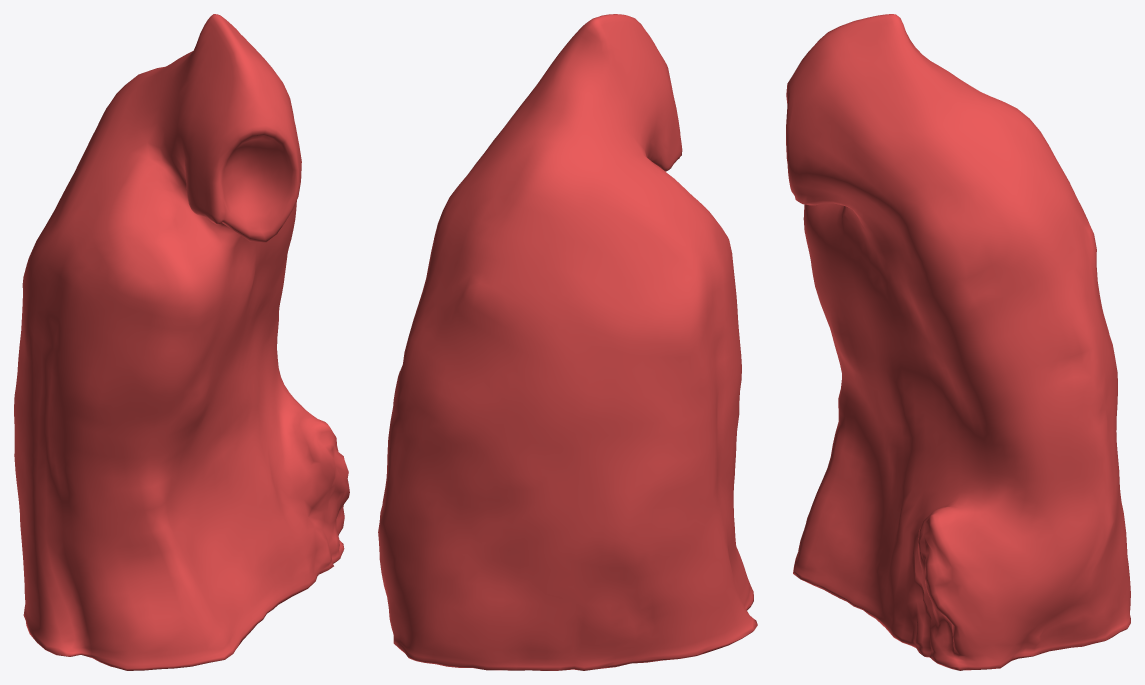
The model's file is S_Monolith.fbx.
The picture shows the model from 3 angles, left to right: view 1: azimuth 30°, elevation 25°; view 2: azimuth 150°, elevation 25°; view 3: azimuth 270°, elevation 25°; orthographic projection. The views are drawn at different scales.
Visible parts, largest first — view 1: Large statue (base); view 2: Large statue (base); view 3: Large statue (base).
Boxes of the visible parts, box(x1,y1,x2,y2) form: Large statue (base): box(14, 14, 349, 670); Large statue (base): box(378, 14, 757, 670); Large statue (base): box(786, 14, 1130, 670).
Size of the model in its own units: 9071 by 15668 by 8435.
